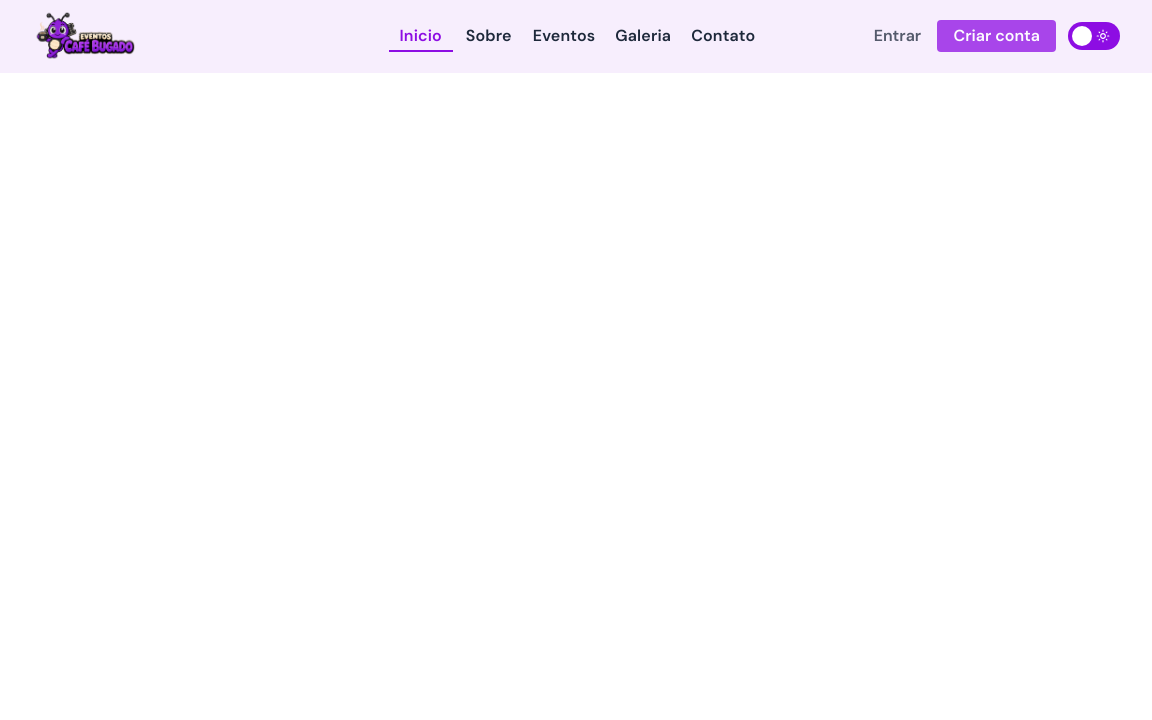
Header › alterna o ícone de tema ao clicar no switch
Expected: the icon with test id "LightModeOutlinedIcon" is shown, [1096,29,1110,43]
Click the switch named "Alternar tema": (1094, 36) [1068,22,1120,50]
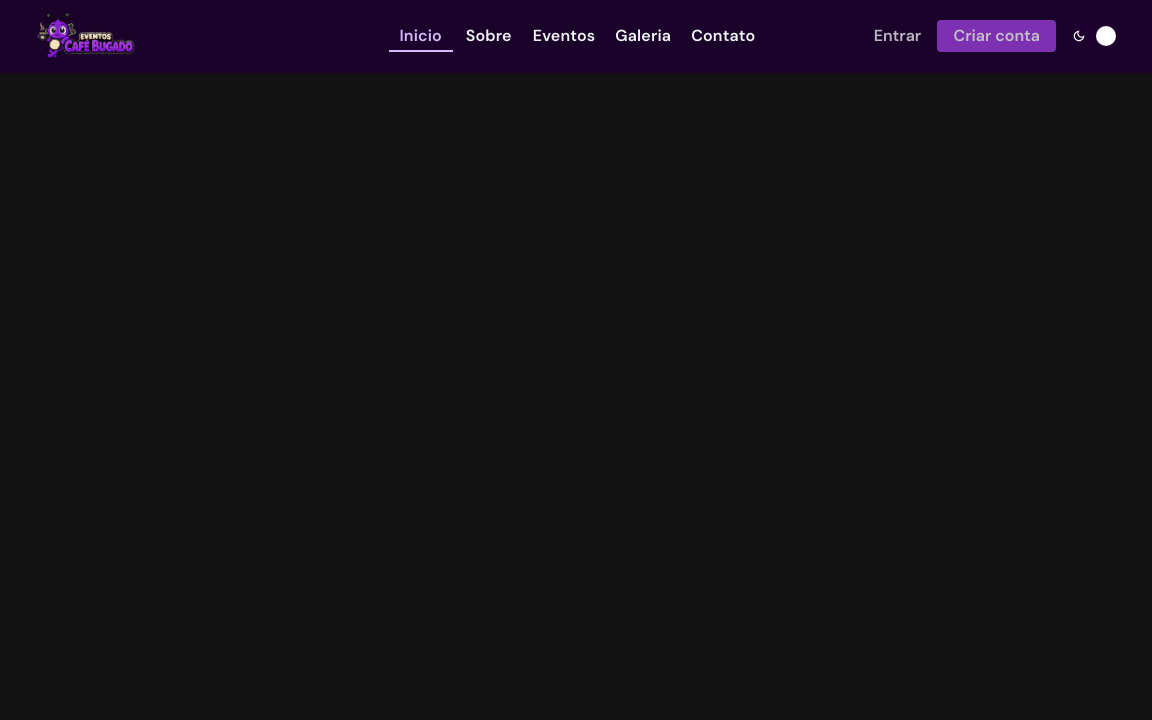
Expected: the icon with test id "DarkModeOutlinedIcon" is shown, [1072,29,1086,43]
